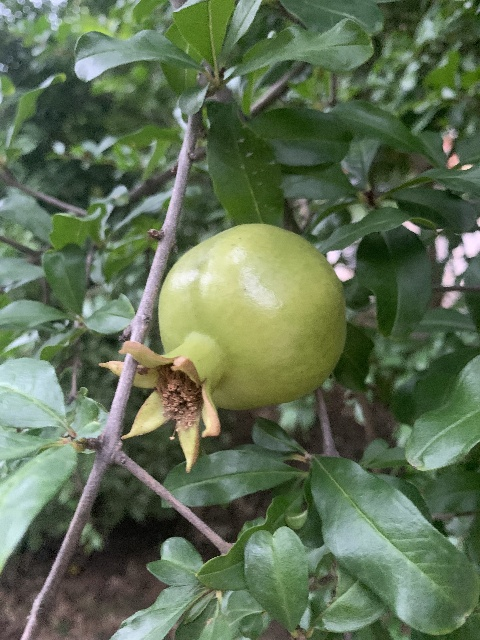mid-growth: (98, 223, 346, 473)
